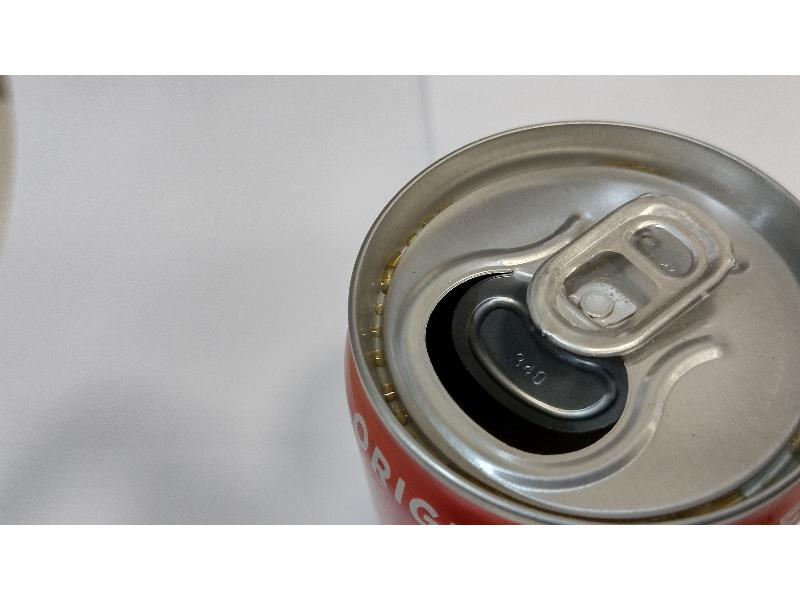can: (339, 116, 800, 524)
